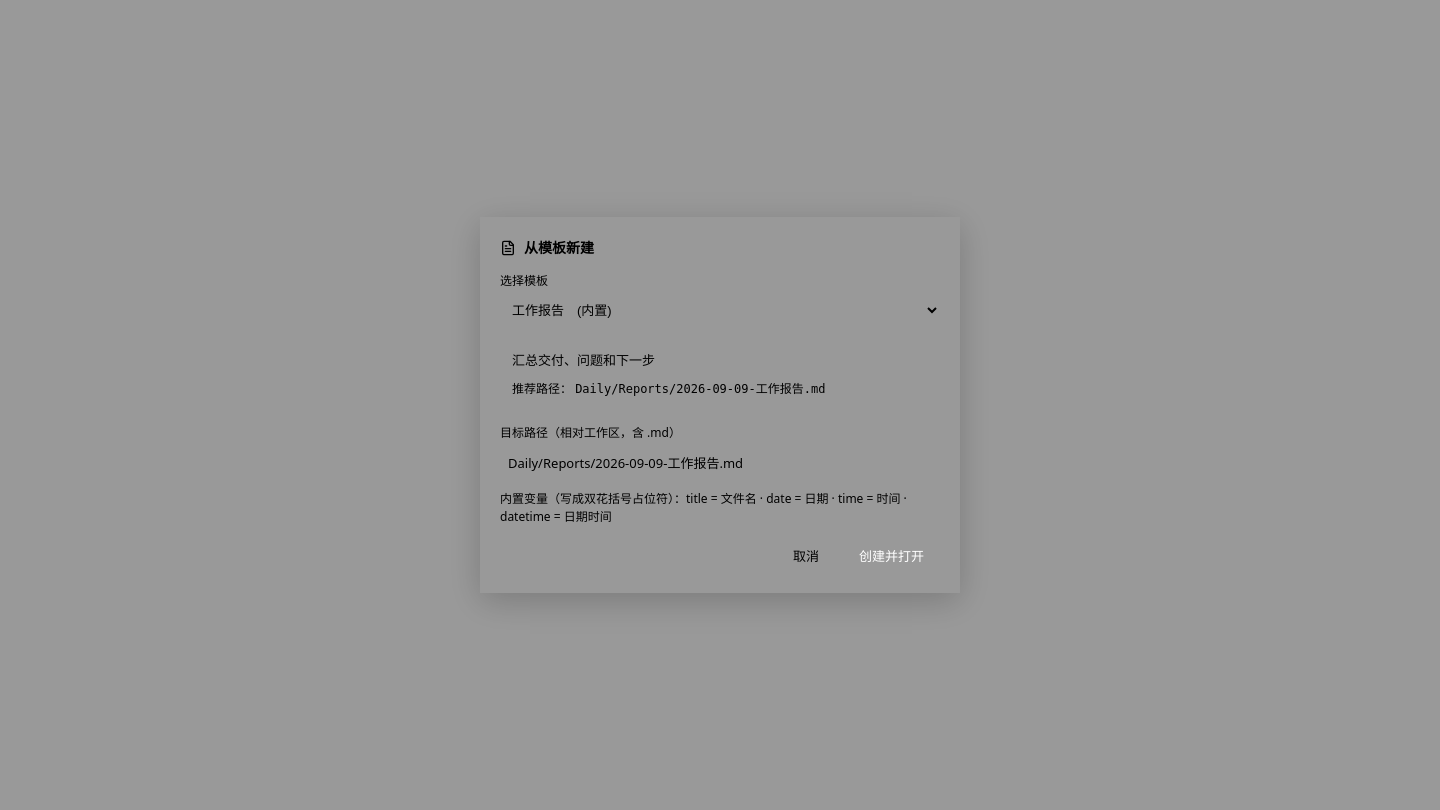
Test case: TemplateCreateDialog · P2-2 模板系统 › 工作报告推荐带日期的 Reports 路径，自定义模板保留普通 Markdown 用法
Check: the field with class "tcd-target" holds "Daily/Reports/2026-09-09-工作报告.md", box [500,446,940,478]
Select "团队自定义" in the dropdown labelled "选择模板" at (720, 310), box [500,294,940,326]
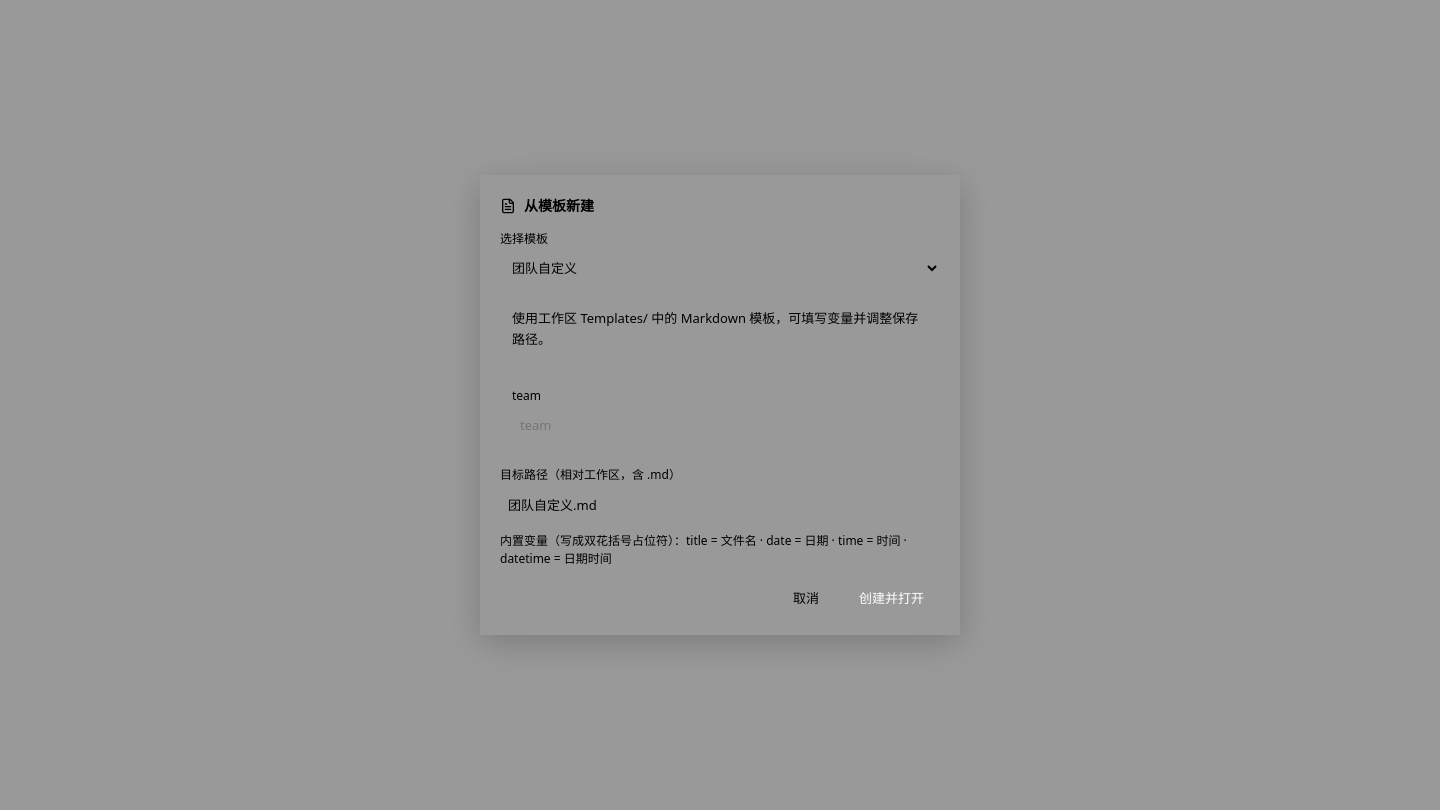
Check: the field with class "tcd-target" holds "团队自定义.md", box [500,488,940,520]
Check: the label "team" is shown, box [512,387,541,404]
